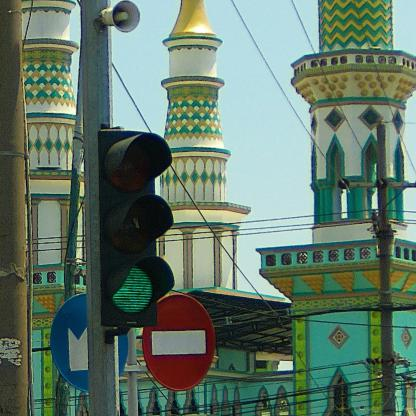green: (102, 132, 175, 326)
